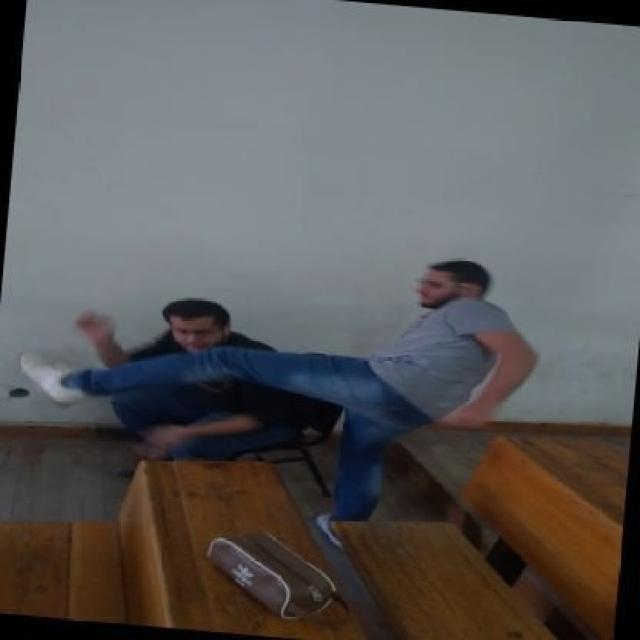fight: (19, 258, 534, 544)
